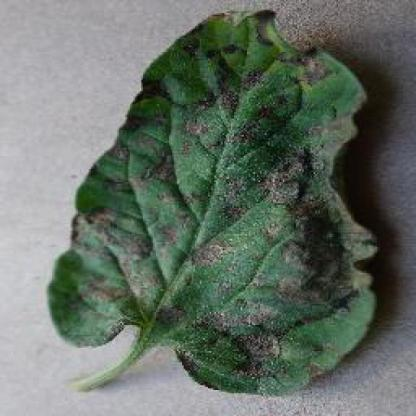Tomato_Blight: (48, 9, 377, 393)
